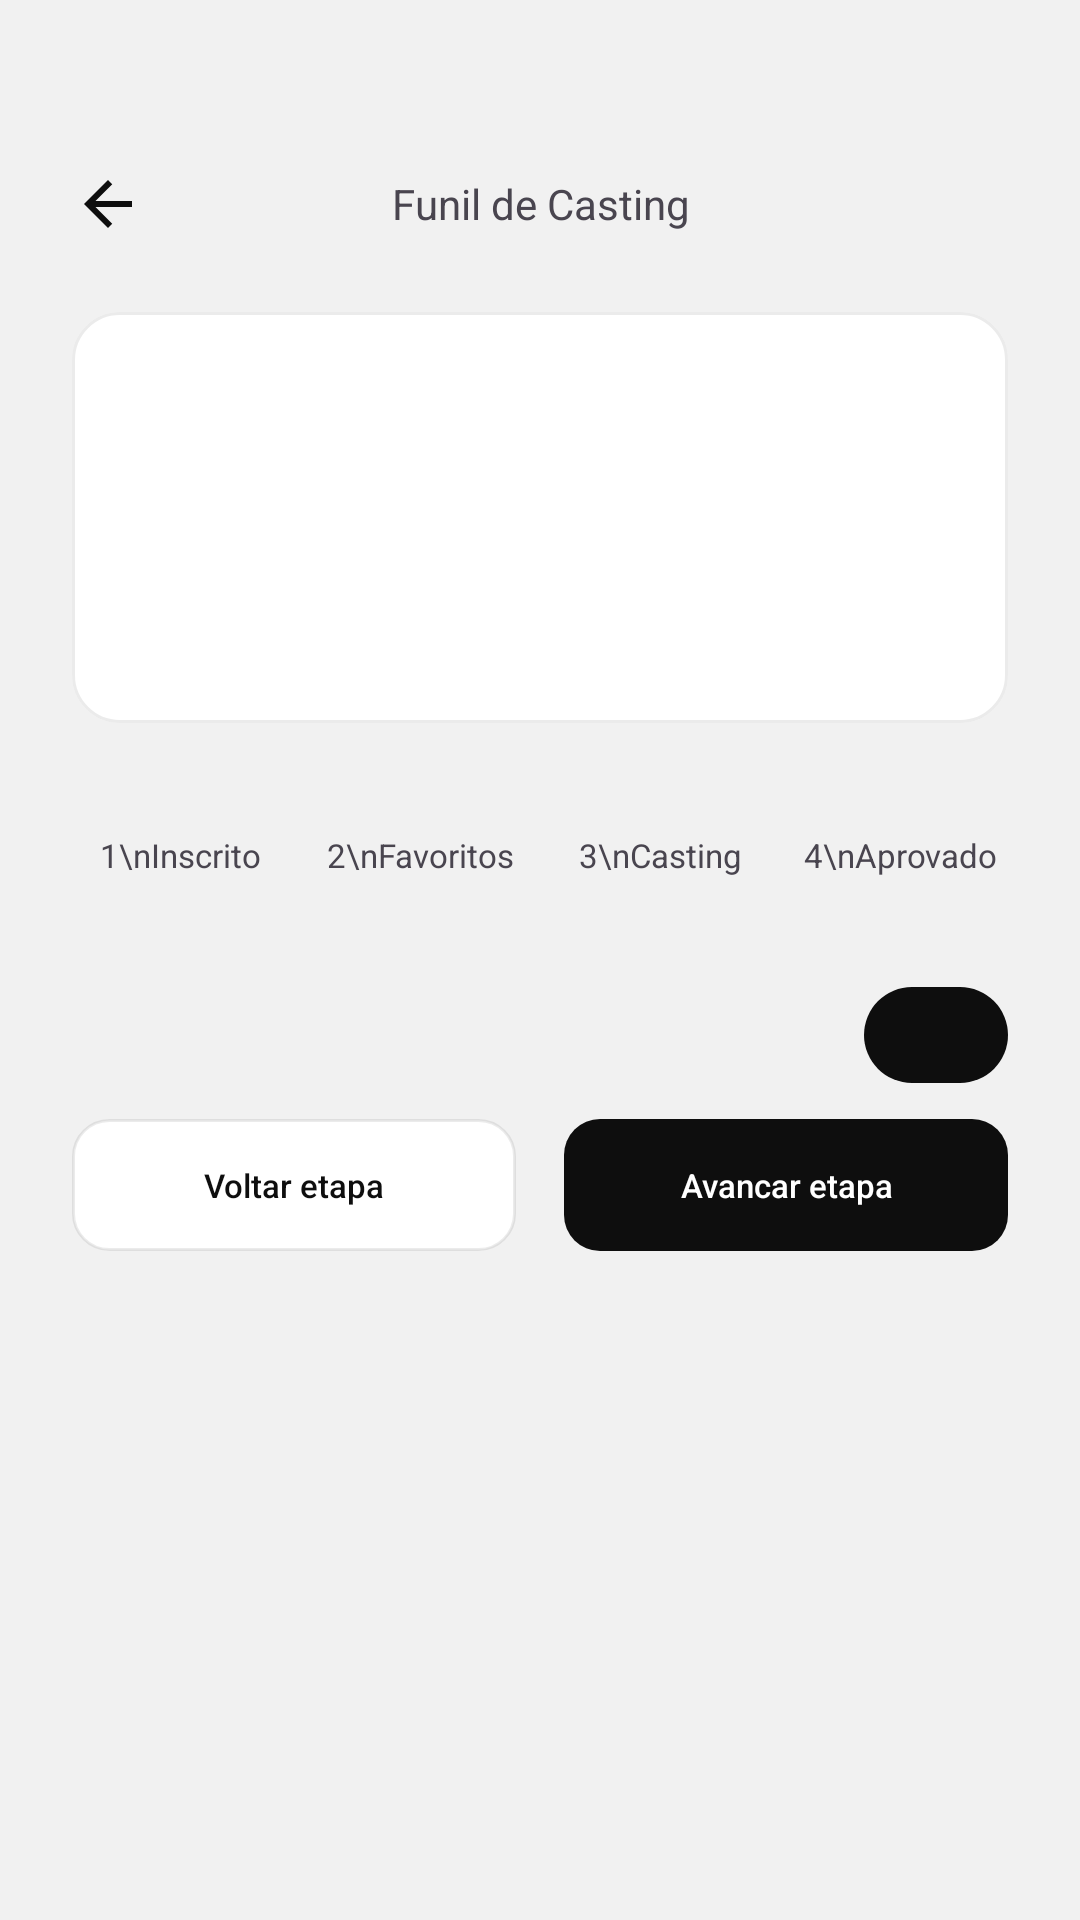

Locate icon controls on the screen. Image size 1080 × 1920, boxes as (x1, y1, x2, y2).
Voltar: (84, 180, 132, 228)
